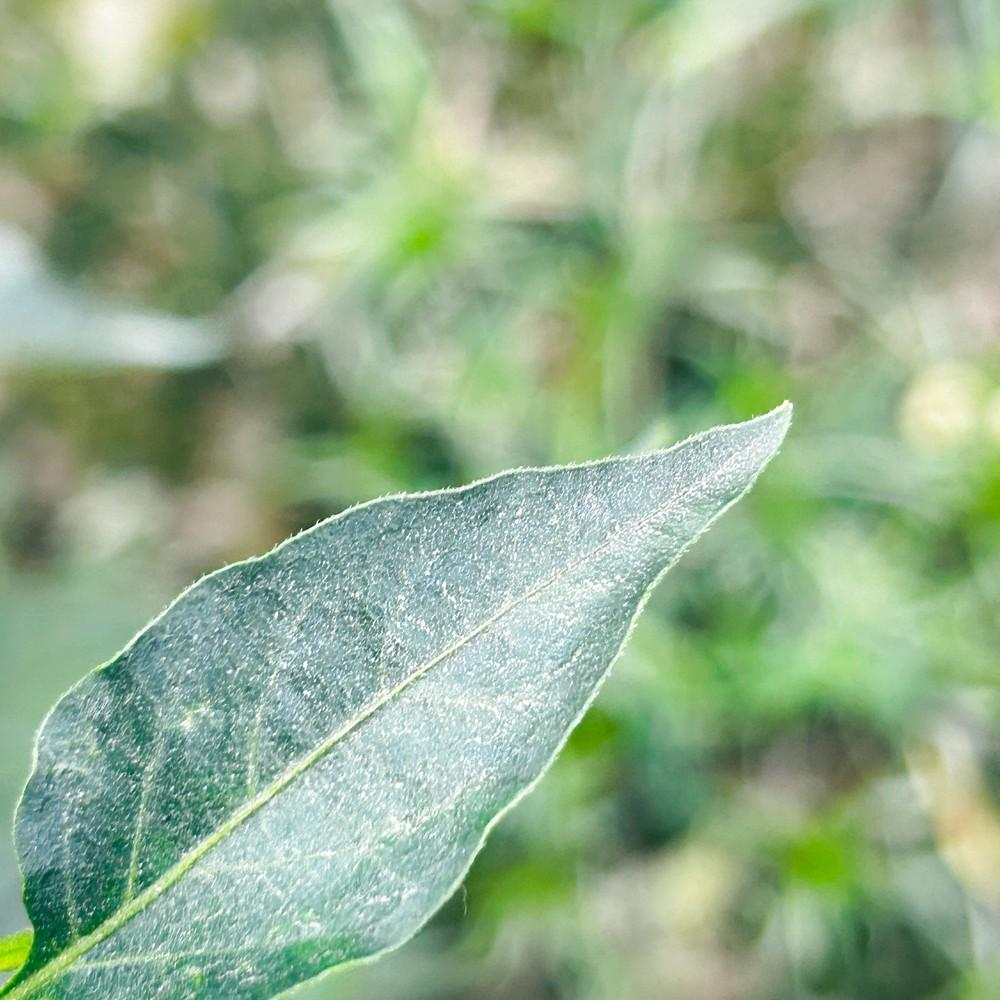Daun Cabai Sehat: (2, 397, 794, 998)
